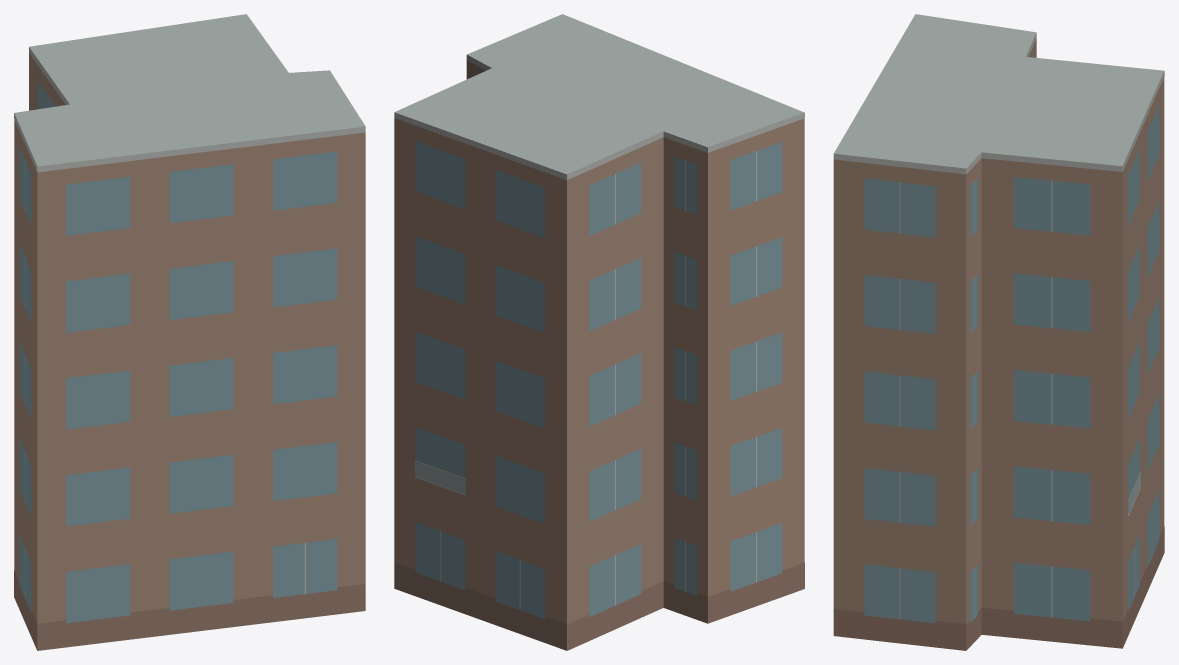
The model's file is survey-upis-32870226.glb.
3 renders of one model, left to right at view 1: azimuth 30°, elevation 25°; view 2: azimuth 150°, elevation 25°; view 3: azimuth 270°, elevation 25°, orthographic.
Visible parts, largest first — view 1: survey-upis-32870226.tmp; view 2: survey-upis-32870226.tmp; view 3: survey-upis-32870226.tmp.
Part boxes in pixels (<box>): survey-upis-32870226.tmp: <box>14,14,365,650</box>; survey-upis-32870226.tmp: <box>394,14,804,650</box>; survey-upis-32870226.tmp: <box>833,14,1164,650</box>.
Bounding box in the file's own units: 13.93 × 20.25 × 12.6.
